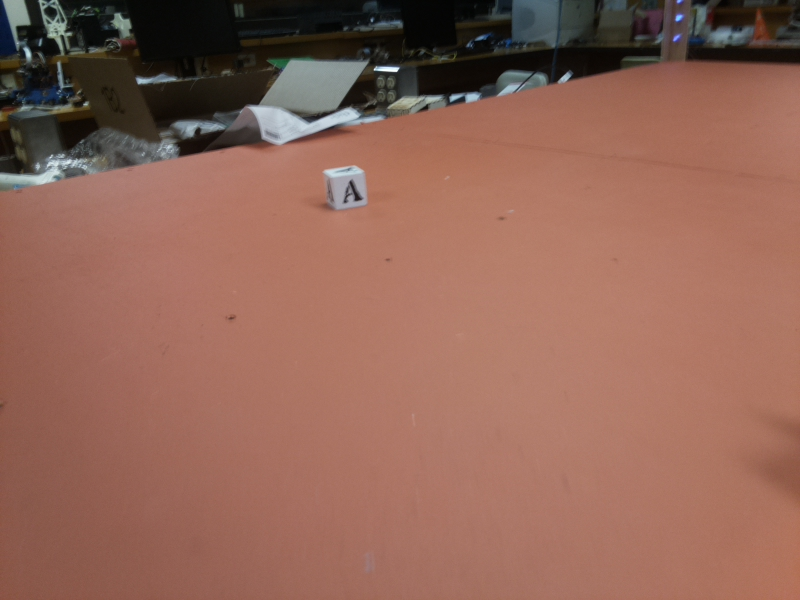blockA: (319, 165, 367, 210)
corner: (660, 2, 691, 62)
